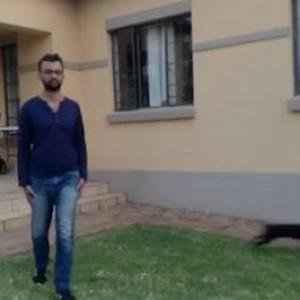follow: (21, 61, 92, 282)
